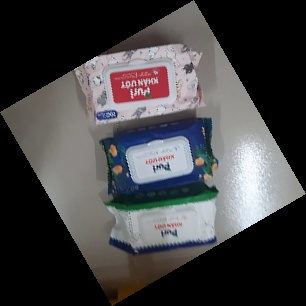Puri Trang: (101, 181, 221, 255)
Puri Xanh: (98, 116, 220, 199)
Puri hong: (72, 41, 208, 126)
